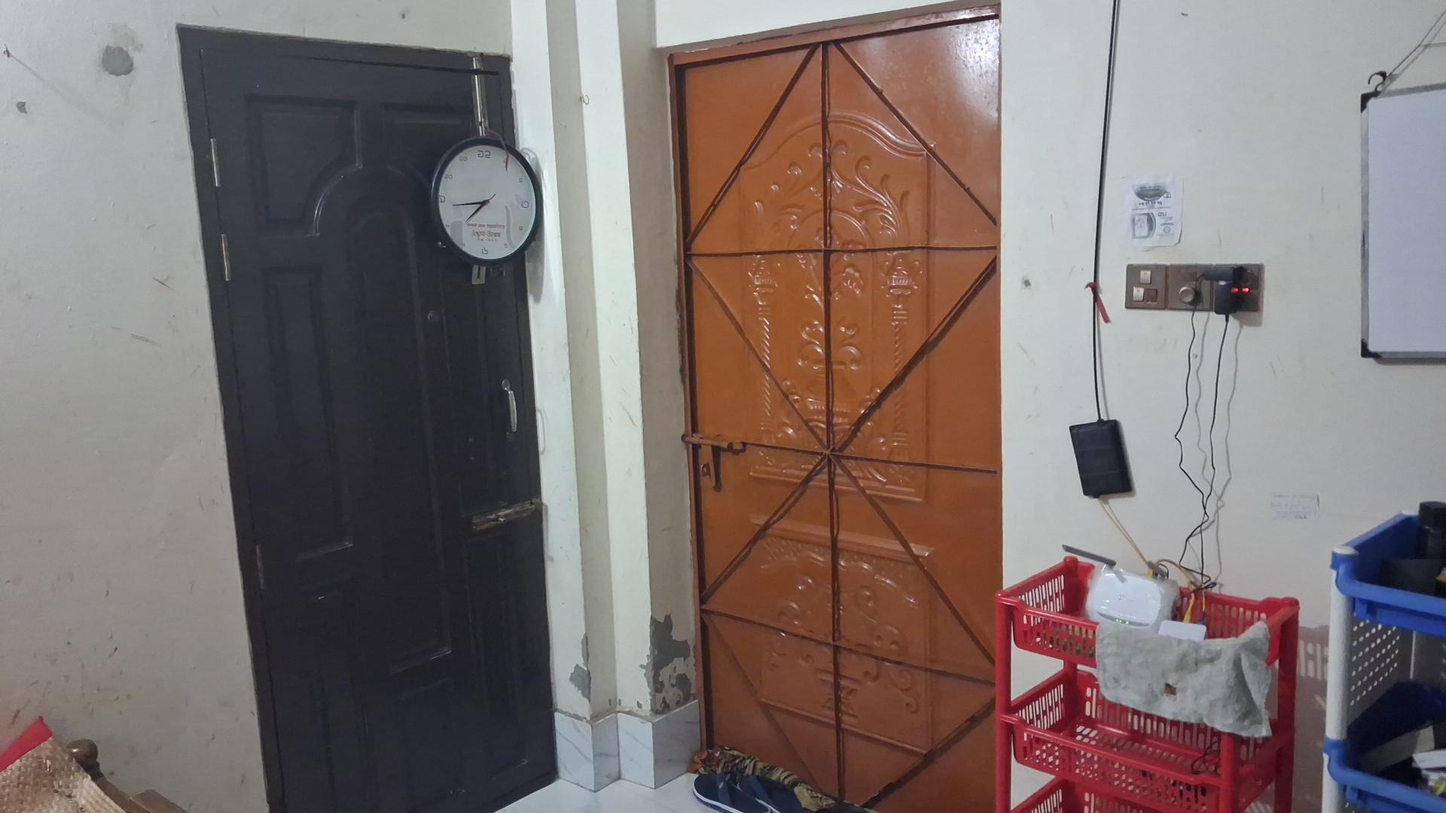Clock: (432, 139, 539, 262)
Door: (174, 8, 561, 811), (658, 23, 1025, 813)
Footwear: (676, 756, 802, 813)
Rack: (995, 561, 1305, 803)
